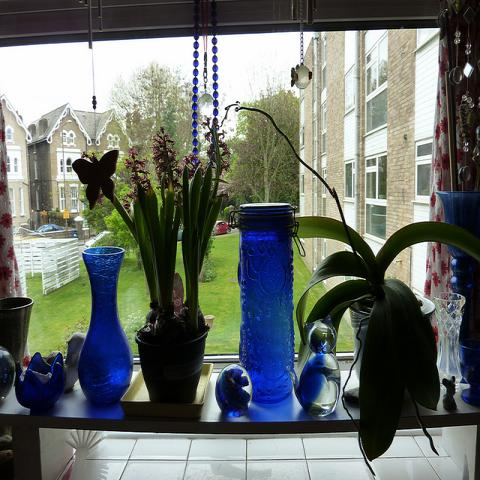car: (85, 230, 110, 249), (30, 224, 63, 233), (210, 221, 231, 235), (71, 232, 78, 237)
